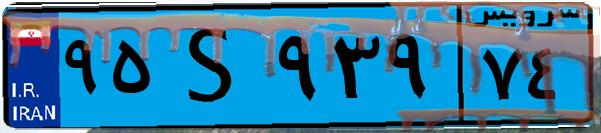3: (330, 28, 385, 110)
4: (525, 38, 570, 115)
5: (110, 28, 158, 98)
7: (475, 38, 525, 113)
9: (270, 28, 330, 110), (385, 28, 445, 110), (57, 26, 110, 100)
S: (158, 12, 270, 120)
